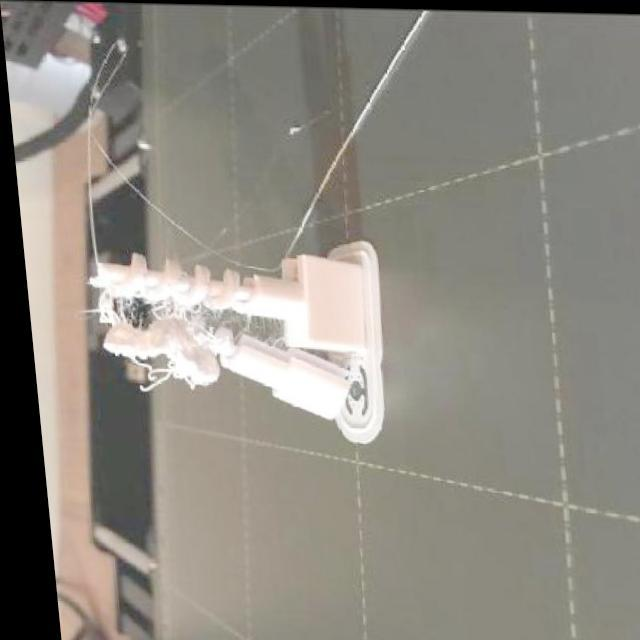spaghetti: (70, 245, 249, 394)
